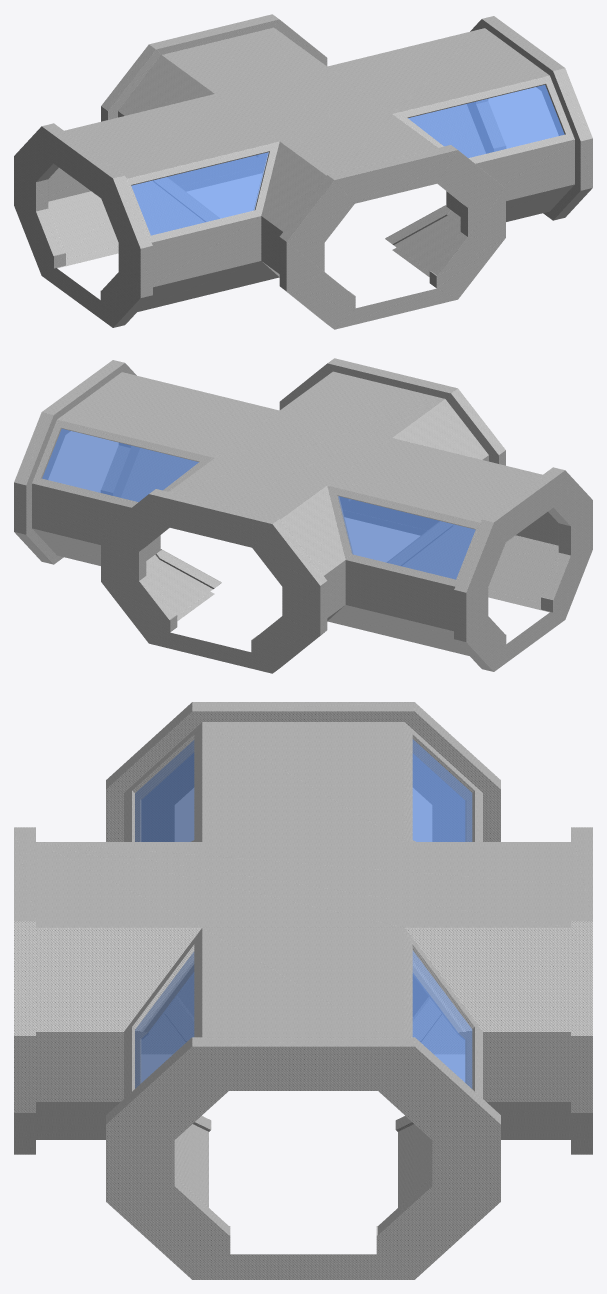
The model's file is 4Exit.fbx.
The picture shows the model from 3 angles, top to bottom: view 1: azimuth 30°, elevation 25°; view 2: azimuth 150°, elevation 25°; view 3: azimuth 270°, elevation 25°; orthographic projection. The views are drawn at different scales.
Visible parts, largest first — view 1: Group1; view 2: Group1; view 3: Group1.
Boxes of the visible parts, left/top/right/bottom form: Group1: left=14, top=14, right=592, bottom=329; Group1: left=14, top=358, right=592, bottom=673; Group1: left=14, top=702, right=592, bottom=1279.
Size of the model in its own units: 11.35 by 3.59 by 8.06.
